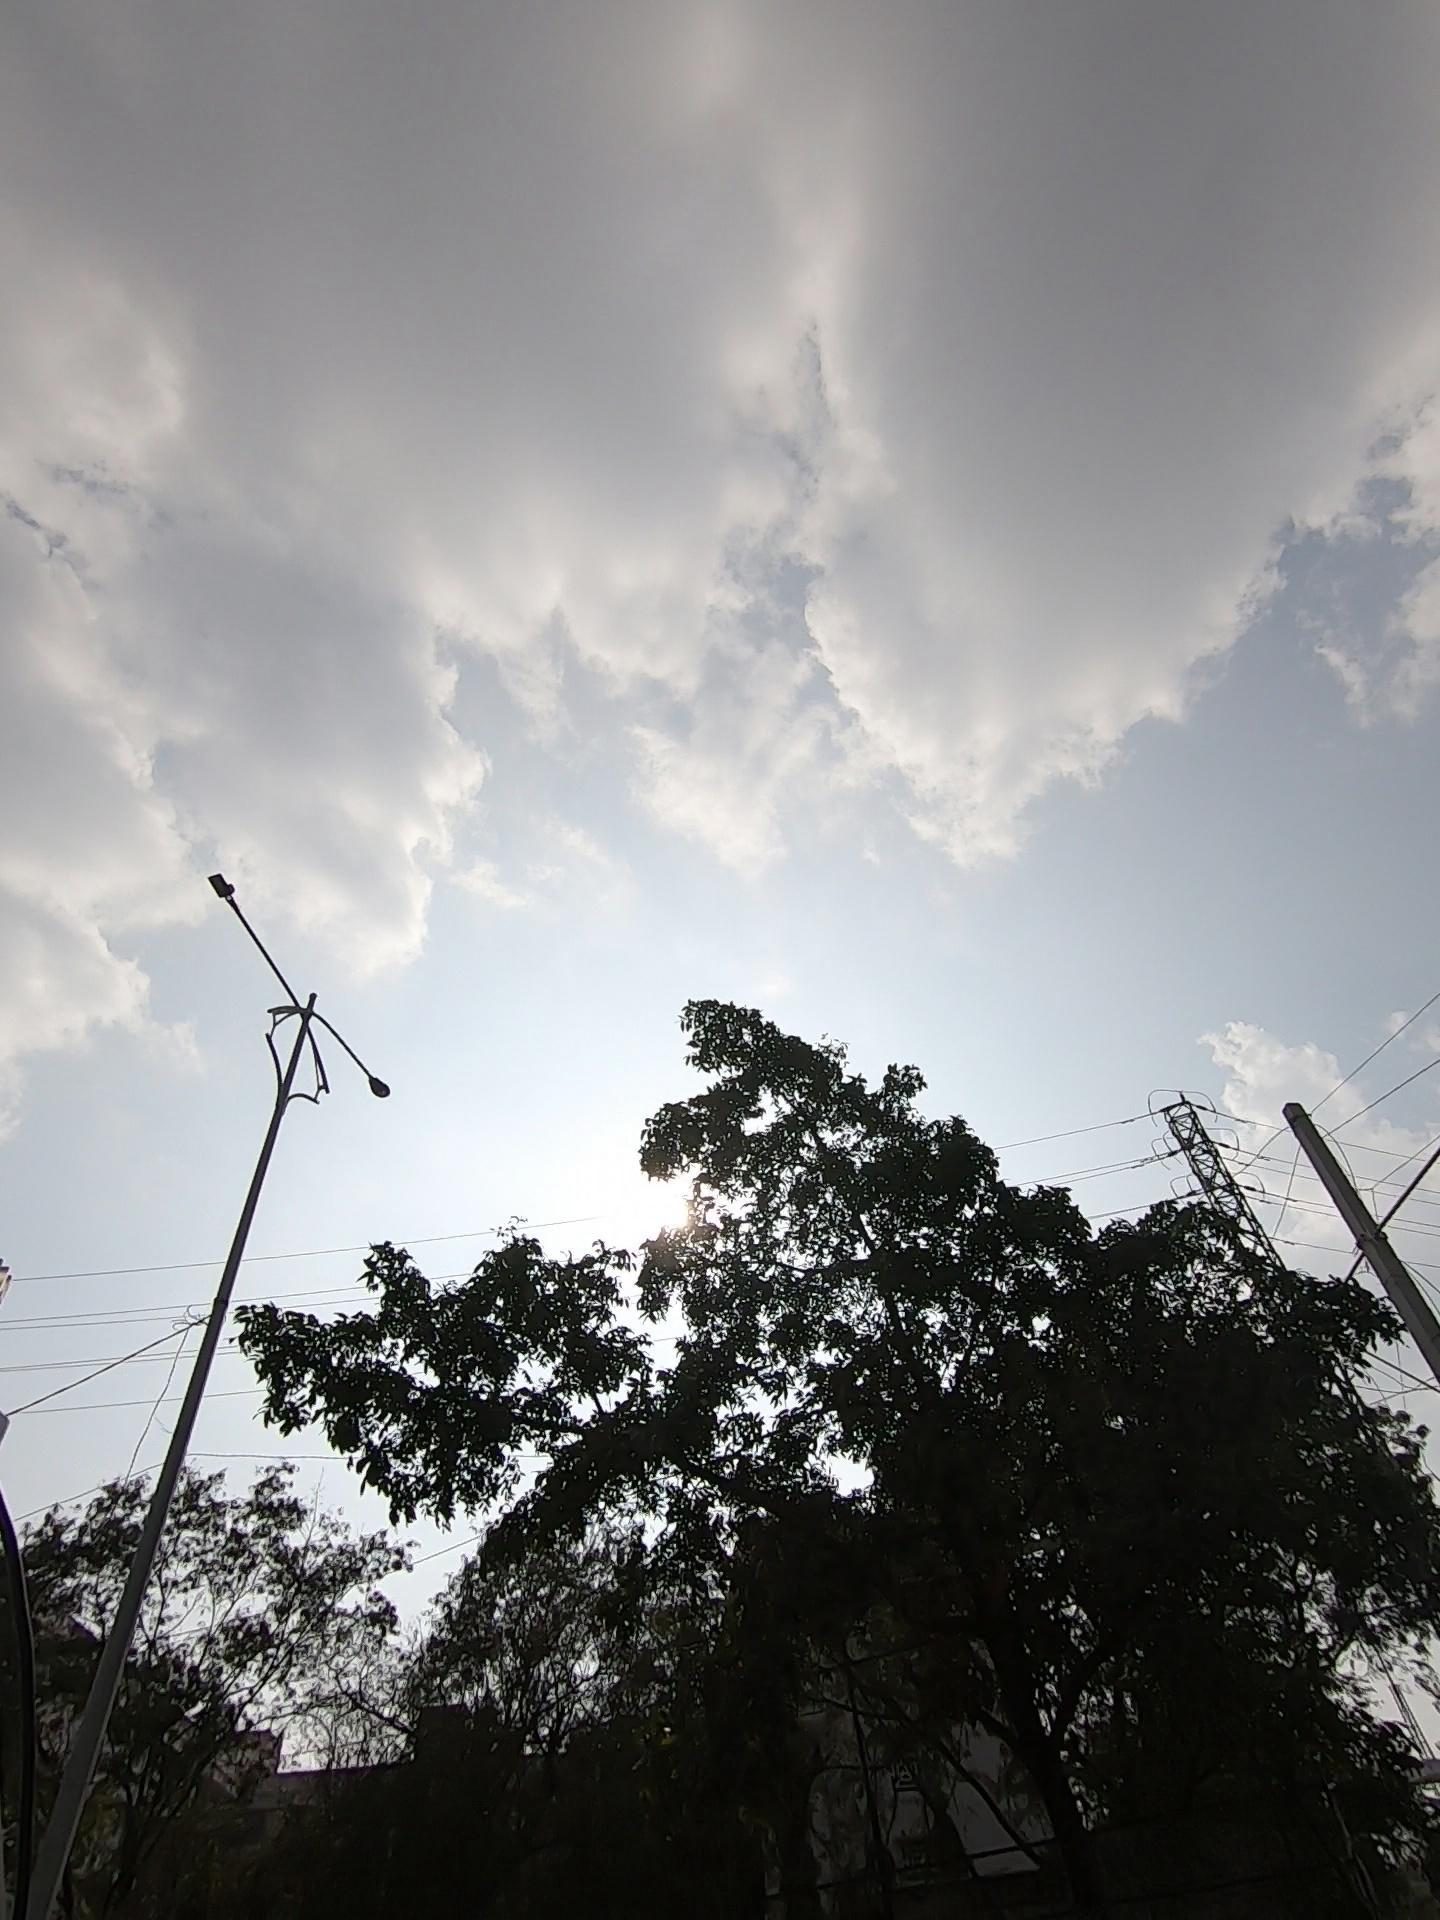off: (160, 797, 499, 1176)
